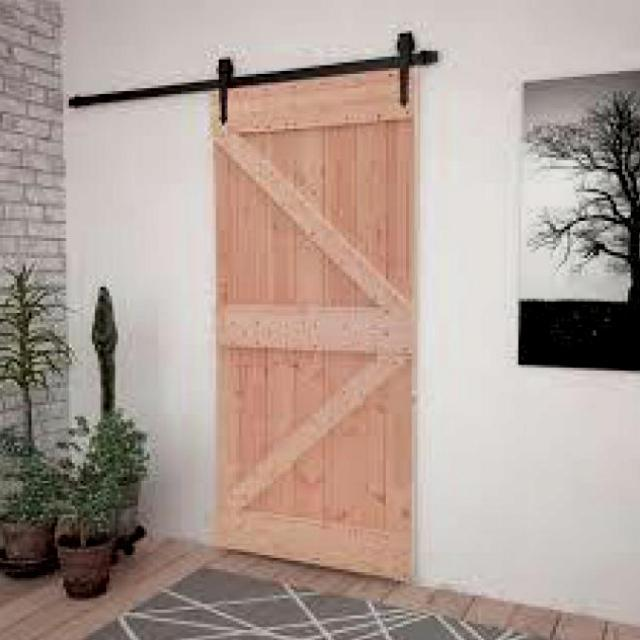door: (212, 64, 417, 582)
